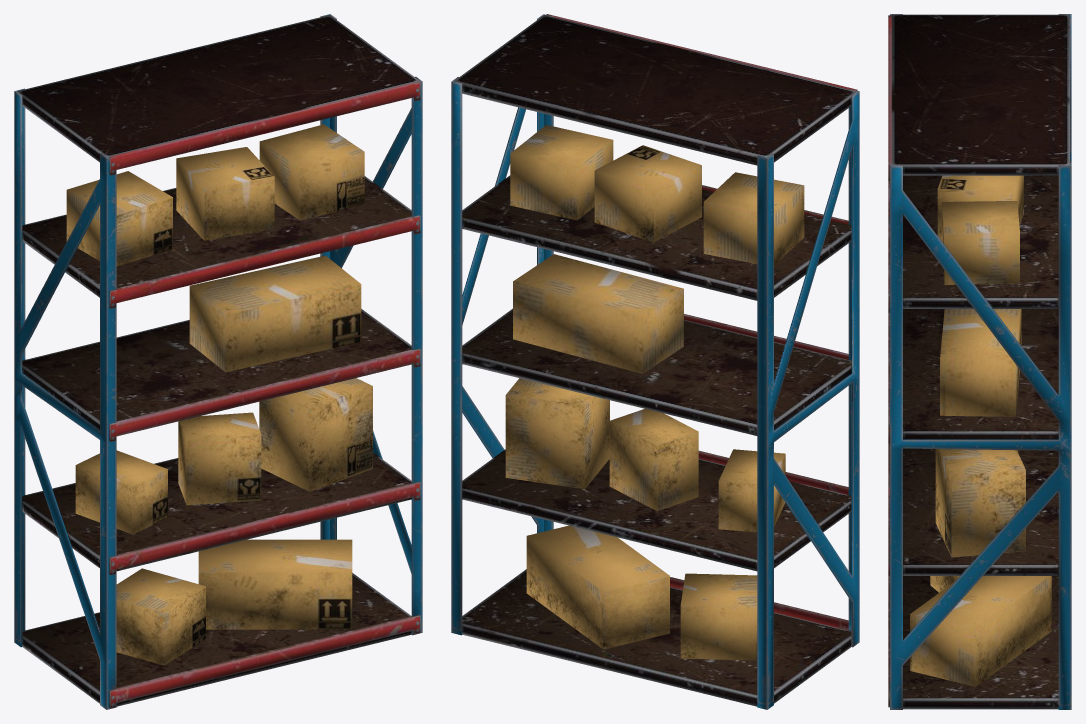
File: Warehouse_Shelf.glb
3 renders of one model, left to right at view 1: azimuth 30°, elevation 25°; view 2: azimuth 150°, elevation 25°; view 3: azimuth 270°, elevation 25°, orthographic.
Visible parts, largest first — view 1: Warehouse Shelf; view 2: Warehouse Shelf; view 3: Warehouse Shelf.
Boxes of the visible parts, bbox=[...] form: Warehouse Shelf: bbox=[14, 14, 422, 709]; Warehouse Shelf: bbox=[451, 14, 859, 709]; Warehouse Shelf: bbox=[888, 14, 1071, 709].
Bounding box in the file's own units: 1.21 × 2.02 × 0.6172.
Materials: 1 (1 with a texture image).
